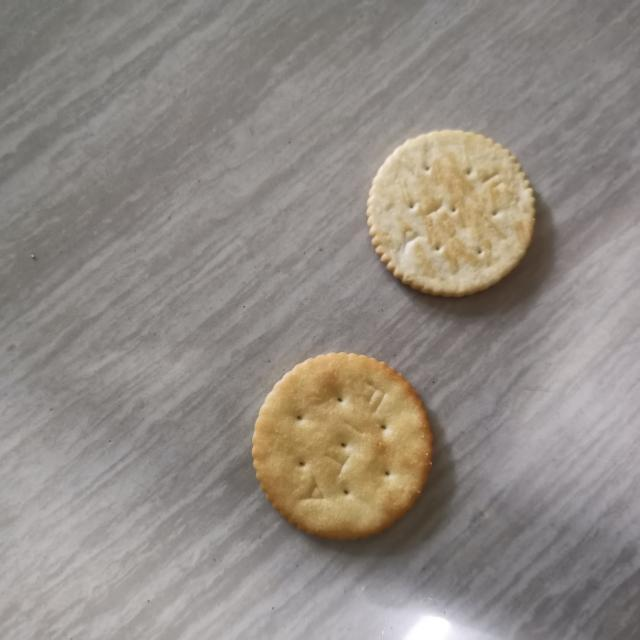Intact: (238, 341, 444, 550), (362, 119, 549, 309)
